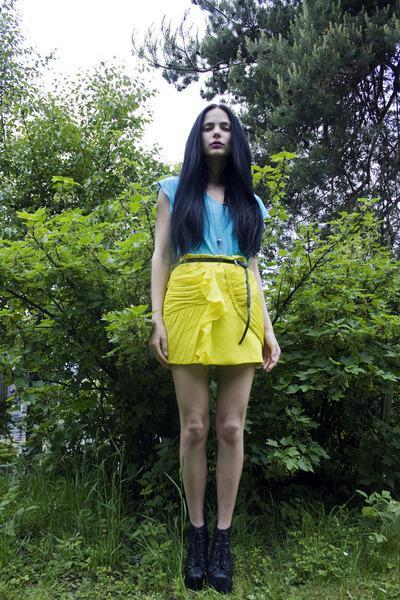shirt: (192, 186, 237, 255)
shoe: (182, 523, 236, 587)
skirt: (157, 254, 281, 364)
